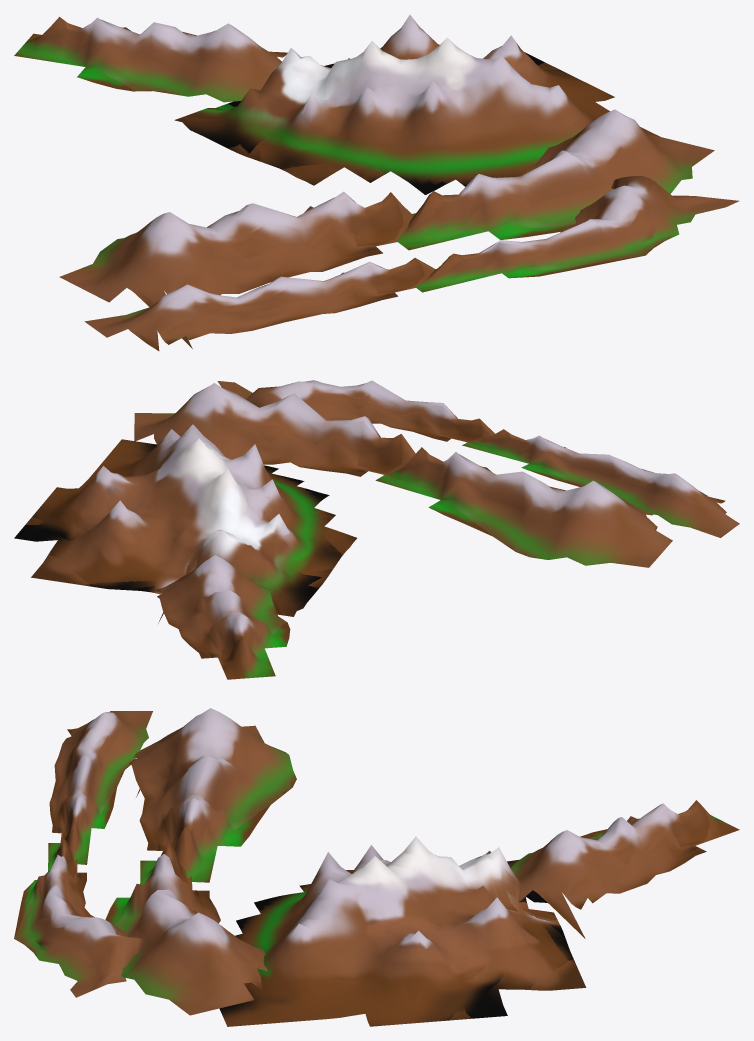
The model's file is mountains.obj.
The picture shows the model from 3 angles, top to bottom: view 1: azimuth 30°, elevation 25°; view 2: azimuth 150°, elevation 25°; view 3: azimuth 270°, elevation 25°; orthographic projection. The views are drawn at different scales.
Bounding box in the file's own units: 18.74 × 3.51 × 18.97.
